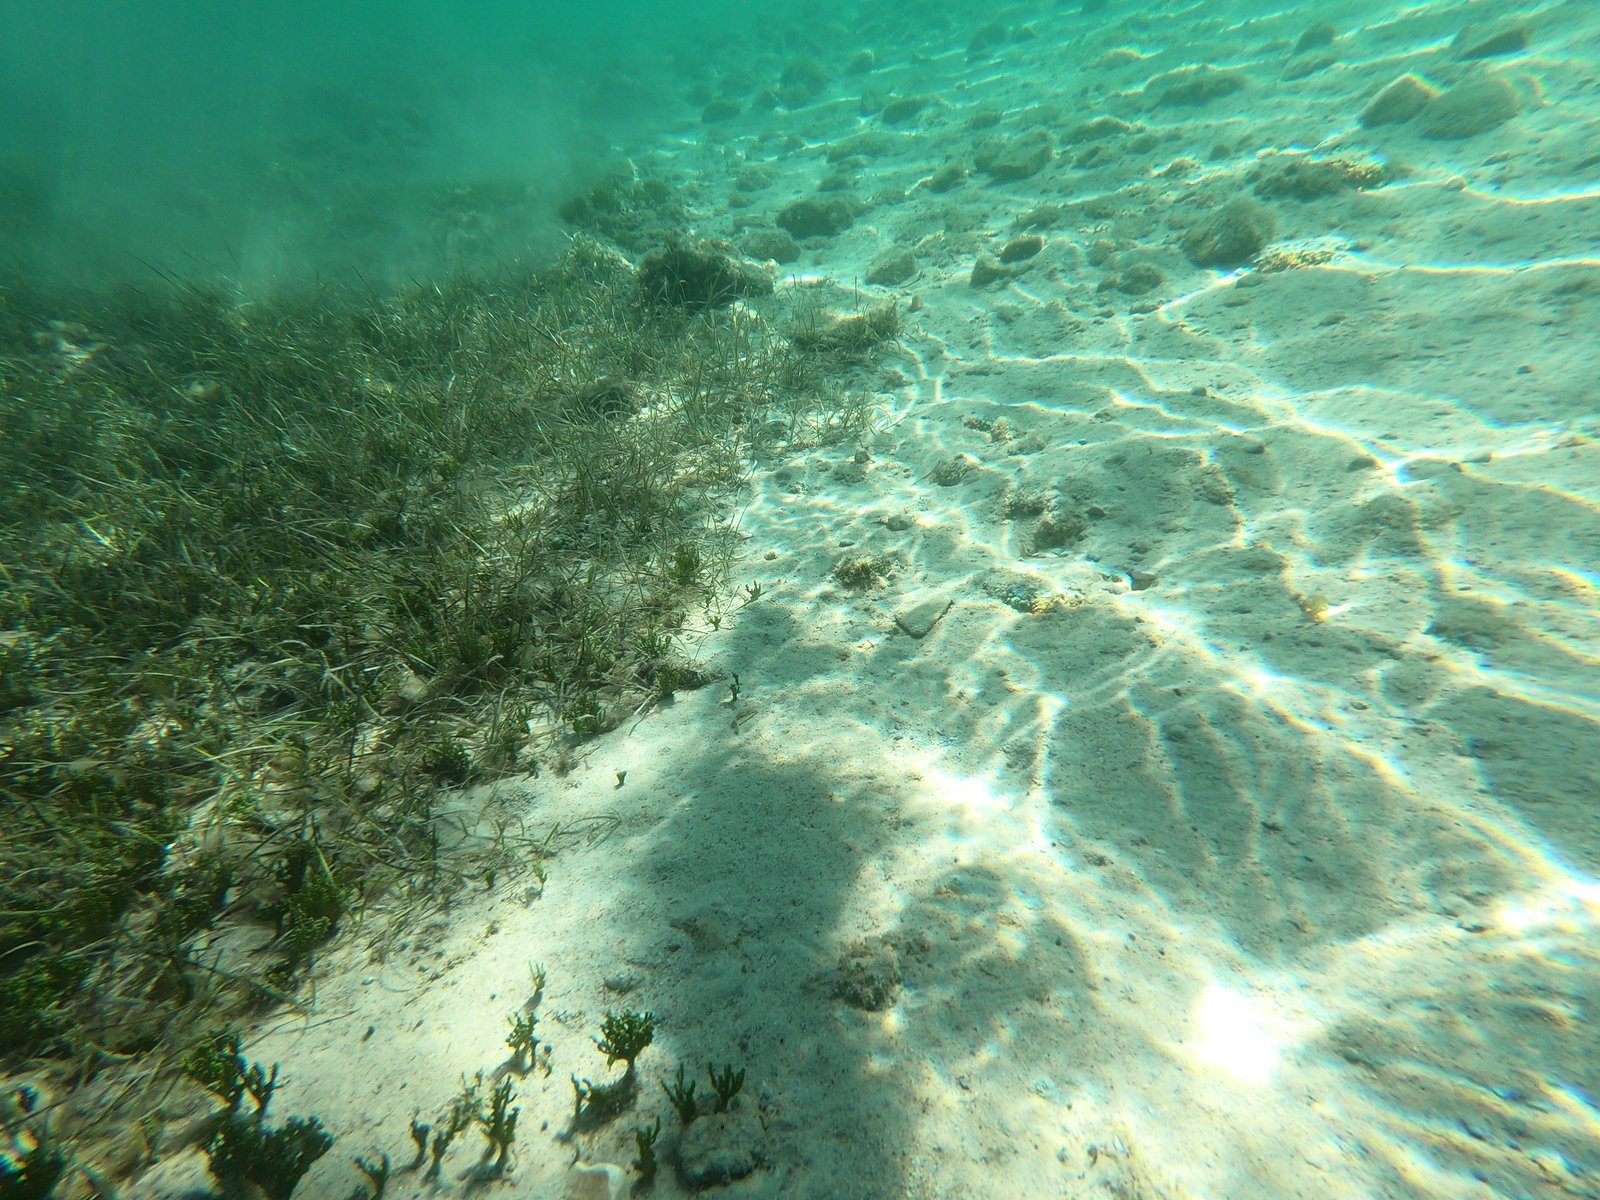halimeda: (202, 1121, 333, 1200), (278, 875, 350, 964), (590, 1005, 656, 1089), (186, 1036, 244, 1112), (486, 1074, 522, 1170), (569, 1074, 632, 1126), (654, 1063, 699, 1121), (706, 1060, 748, 1117), (505, 1013, 540, 1074), (632, 1116, 661, 1185), (244, 1060, 280, 1116), (568, 688, 603, 737), (354, 1152, 389, 1199), (454, 1078, 483, 1131), (409, 1118, 430, 1168), (656, 663, 682, 695), (525, 962, 549, 995), (432, 1132, 450, 1171), (513, 703, 530, 736), (648, 632, 671, 655), (743, 577, 765, 603), (532, 855, 546, 889), (729, 671, 741, 705), (706, 614, 721, 630), (617, 770, 626, 787), (680, 610, 687, 626), (706, 595, 712, 608)
